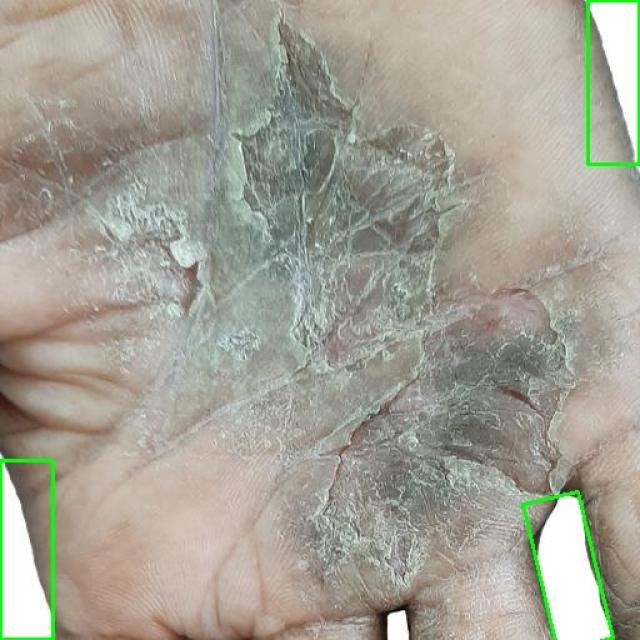Contact Dermatitis: (523, 491, 613, 640), (0, 460, 52, 639), (588, 0, 639, 164)
